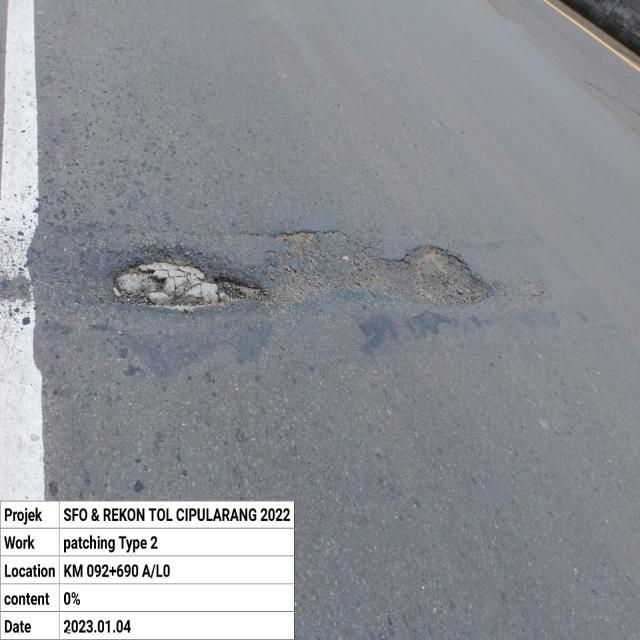Buraco: (100, 226, 500, 318)
